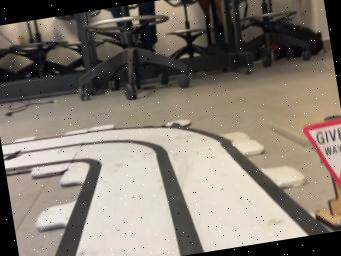give_way: (302, 117, 341, 231), (302, 117, 341, 231), (302, 117, 341, 231), (302, 117, 341, 231), (302, 117, 341, 231), (302, 117, 341, 231)
street: (21, 124, 330, 256), (21, 124, 330, 256), (21, 124, 330, 256), (21, 124, 330, 256), (21, 124, 330, 256), (21, 124, 330, 256)
